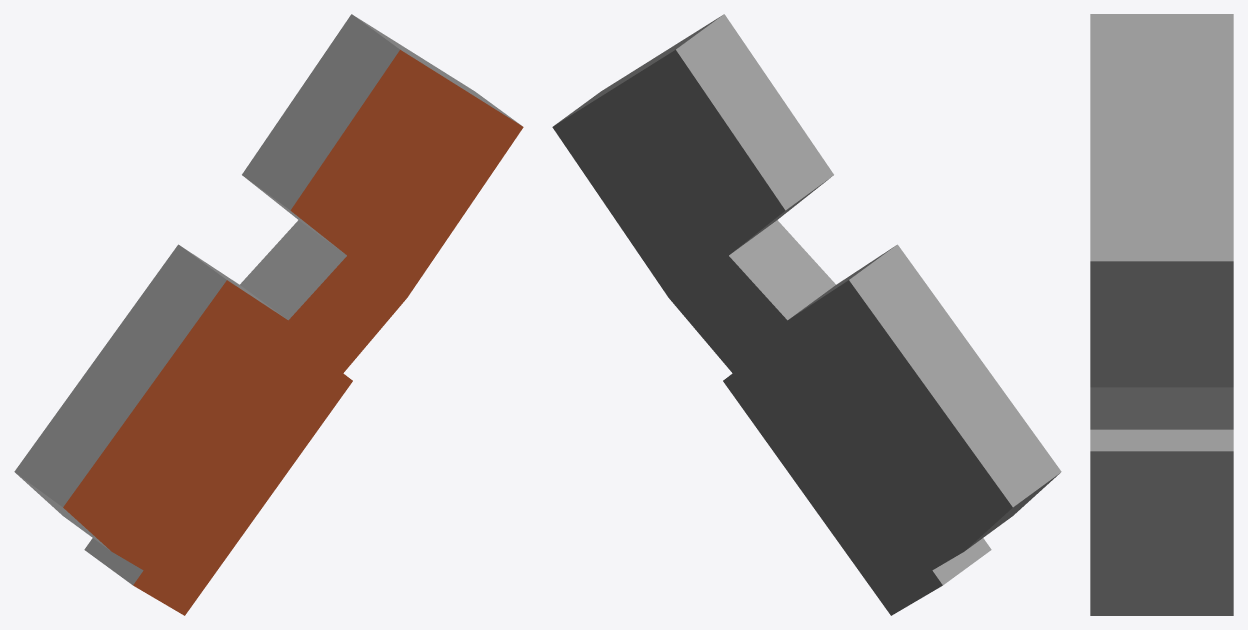
The model's file is construction_1874_assumed_A_Casa_h6m.obj.
3 views of the same model, side by side, from view 1: azimuth 30°, elevation 25°; view 2: azimuth 150°, elevation 25°; view 3: azimuth 270°, elevation 25° (orthographic). The views are drawn at different scales.
Parts seen in each view (by area): view 1: construction_1874_assumed_A_Casa; view 2: construction_1874_assumed_A_Casa; view 3: construction_1874_assumed_A_Casa.
Boxes of the visible parts, x1,y1,x2,y2 form: construction_1874_assumed_A_Casa: (14, 14, 523, 615); construction_1874_assumed_A_Casa: (552, 14, 1061, 615); construction_1874_assumed_A_Casa: (1090, 14, 1233, 615).
Bounding box in the file's own units: 32.76 × 34.9 × 6.
